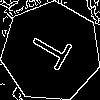T: (26, 26, 81, 76)
